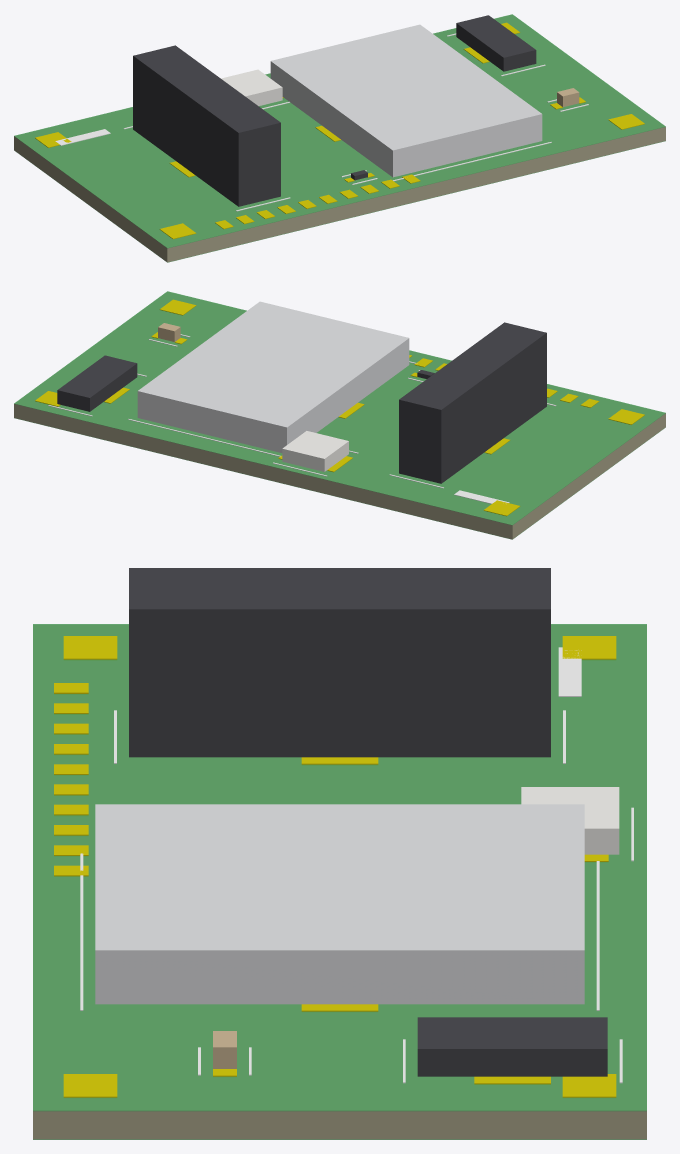
The model's file is board.glb.
The picture shows the model from 3 angles, top to bottom: view 1: azimuth 30°, elevation 25°; view 2: azimuth 150°, elevation 25°; view 3: azimuth 270°, elevation 25°; orthographic projection. The views are drawn at different scales.
Visible parts, largest first — view 1: board_body, soldermask_top, U6, J1, copper_pads_top, USB-UART1, SW_BOOT1, silkscreen_top; view 2: board_body, soldermask_top, U6, J1, USB-UART1, copper_pads_top, SW_BOOT1, silkscreen_top; view 3: board_body, soldermask_top, U6, J1, copper_pads_top, USB-UART1, SW_BOOT1, silkscreen_top, C12.
Part boxes in pixels (<box>): board_body: <box>14,15,665,262</box>; soldermask_top: <box>14,14,665,262</box>; U6: <box>270,24,542,177</box>; J1: <box>133,45,280,206</box>; copper_pads_top: <box>35,22,644,239</box>; USB-UART1: <box>456,15,536,71</box>; SW_BOOT1: <box>221,69,282,106</box>; silkscreen_top: <box>55,33,588,211</box>; board_body: <box>14,292,665,539</box>; soldermask_top: <box>14,291,665,539</box>; U6: <box>137,301,409,452</box>; J1: <box>399,322,546,483</box>; USB-UART1: <box>57,355,137,411</box>; copper_pads_top: <box>35,299,644,516</box>; SW_BOOT1: <box>282,431,348,471</box>; silkscreen_top: <box>48,334,556,503</box>; board_body: <box>33,625,646,1139</box>; soldermask_top: <box>33,624,646,1139</box>; U6: <box>95,804,584,1004</box>; J1: <box>129,568,550,757</box>; copper_pads_top: <box>54,636,616,1097</box>; USB-UART1: <box>417,1017,607,1076</box>; SW_BOOT1: <box>521,787,619,854</box>; silkscreen_top: <box>80,647,633,1083</box>; C12: <box>213,1031,236,1068</box>.
Bounding box in the file's own units: 0.06 × 0.0102 × 0.032.
